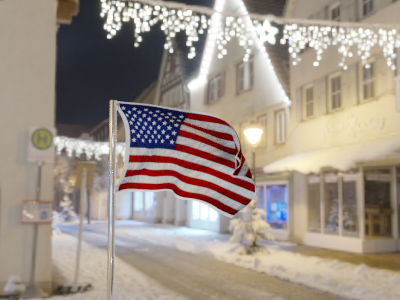America flag: (116, 100, 257, 216)
